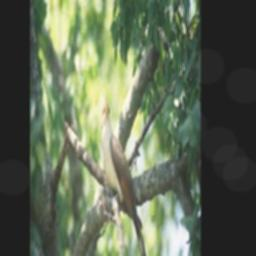Cuckoo: (99, 96, 154, 256)
